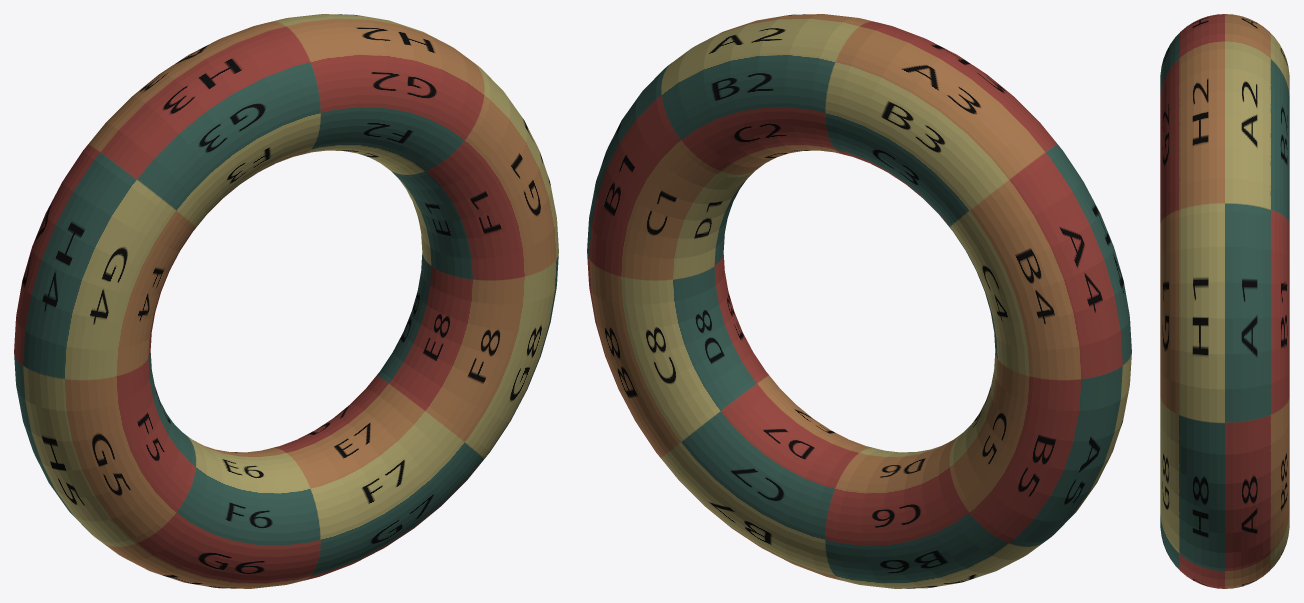
The model's file is texture_torus_R5_r7.glb.
3 views of the same model, side by side, from view 1: azimuth 30°, elevation 25°; view 2: azimuth 150°, elevation 25°; view 3: azimuth 270°, elevation 25° (orthographic). The views are drawn at different scales.
Parts seen in each view (by area): view 1: world; view 2: world; view 3: world.
Boxes of the visible parts, x1=… form: world: x1=14, y1=14, x2=558, y2=588; world: x1=587, y1=14, x2=1131, y2=588; world: x1=1160, y1=14, x2=1289, y2=588.
Size of the model in its own units: 17.2 by 17.17 by 3.86.
1 material, 1 textured.
